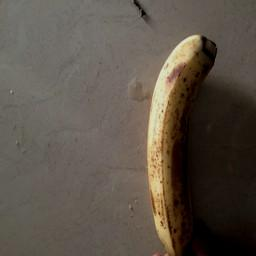Banana Ripe: (136, 22, 242, 256)
